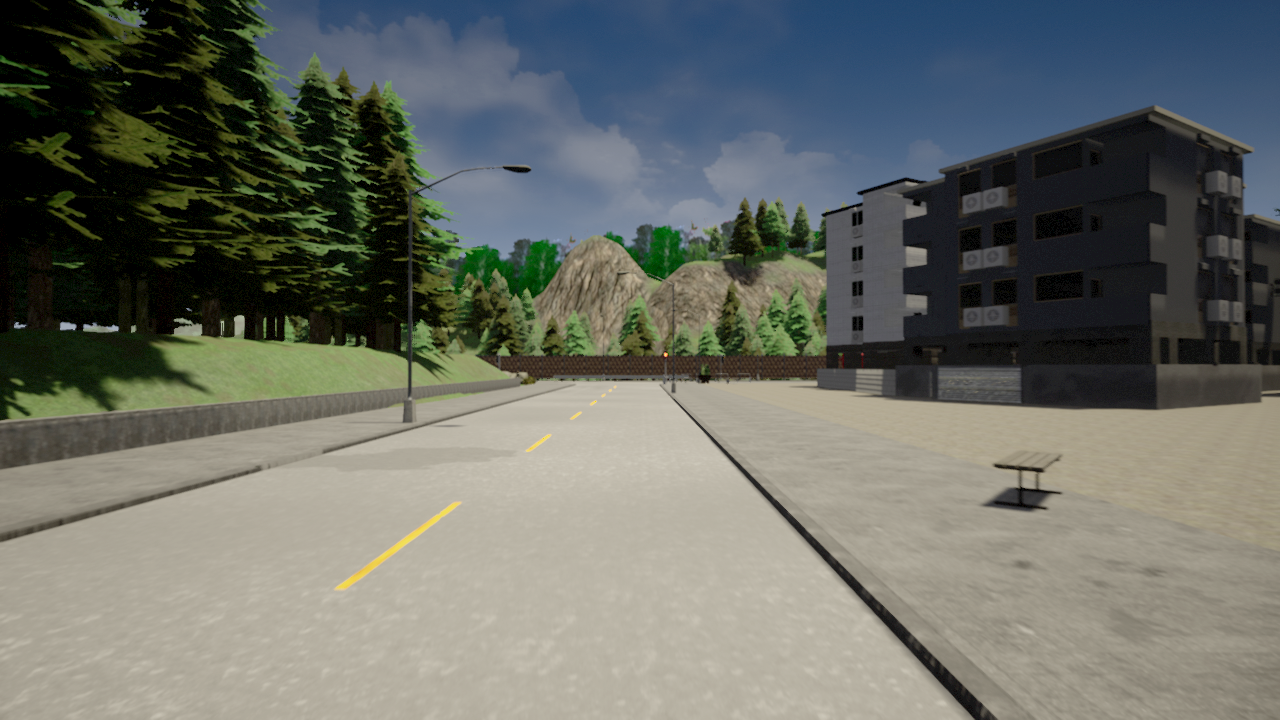red: (662, 351, 669, 363)
